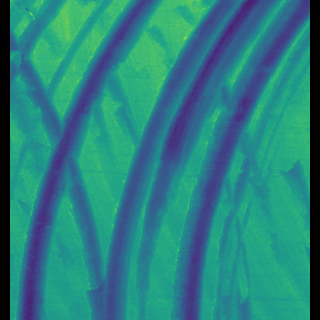Loch: (105, 0, 302, 320), (21, 1, 164, 319), (20, 0, 123, 206)
